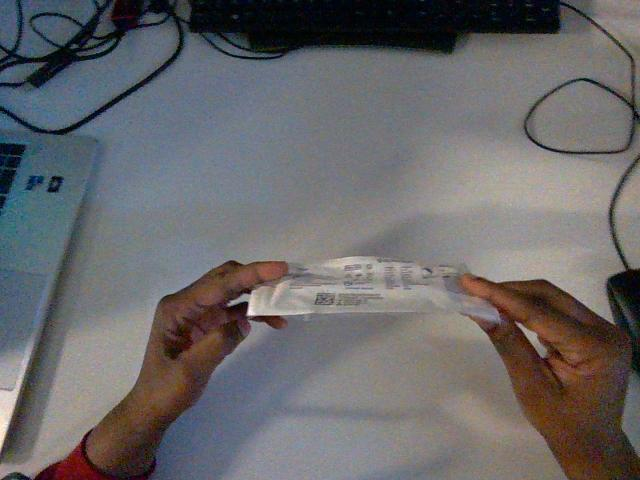syringe: (247, 256, 500, 321)
